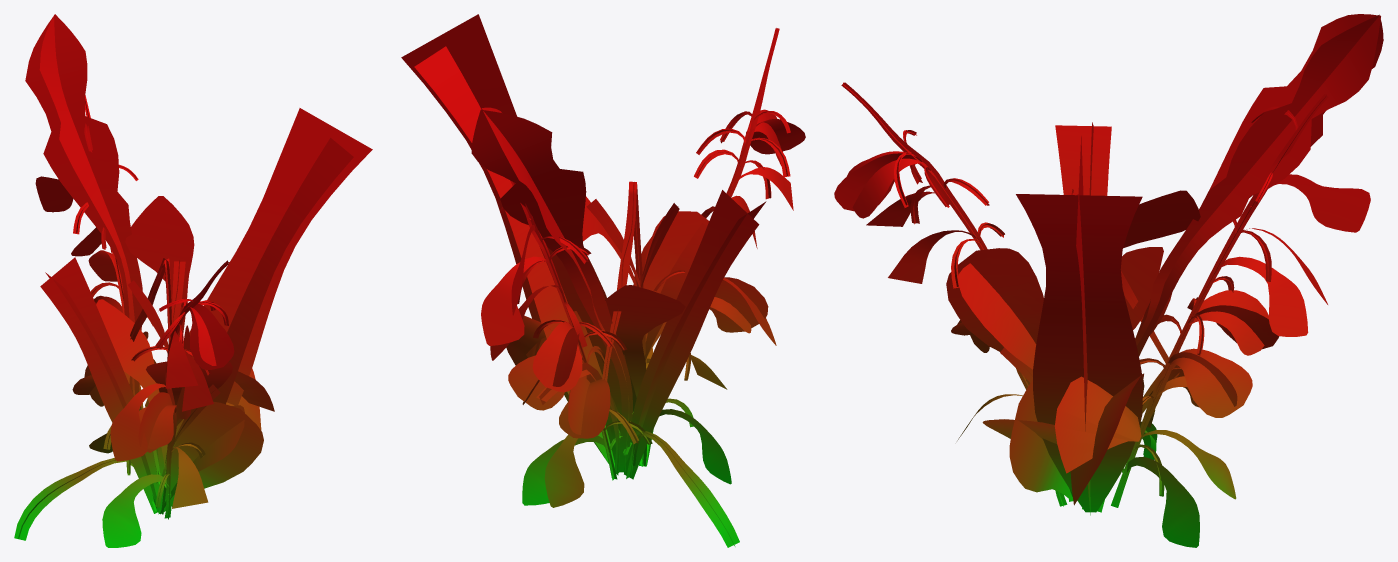
Rendered from Green Herb_LOD0_Var4_tbbpaier.fbx.
3 renders of one model, left to right at view 1: azimuth 30°, elevation 25°; view 2: azimuth 150°, elevation 25°; view 3: azimuth 270°, elevation 25°, orthographic. The views are drawn at different scales.
Visible parts, largest first — view 1: _0a7c_Var4_LOD0; view 2: _0a7c_Var4_LOD0; view 3: _0a7c_Var4_LOD0.
Boxes of the visible parts, x1=… form: _0a7c_Var4_LOD0: x1=14, y1=14, x2=372, y2=547; _0a7c_Var4_LOD0: x1=401, y1=14, x2=805, y2=547; _0a7c_Var4_LOD0: x1=834, y1=14, x2=1383, y2=547.
Bounding box in the file's own units: 11.55 × 14.35 × 13.61.
